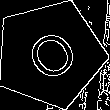O_SE: (17, 21, 83, 87)
